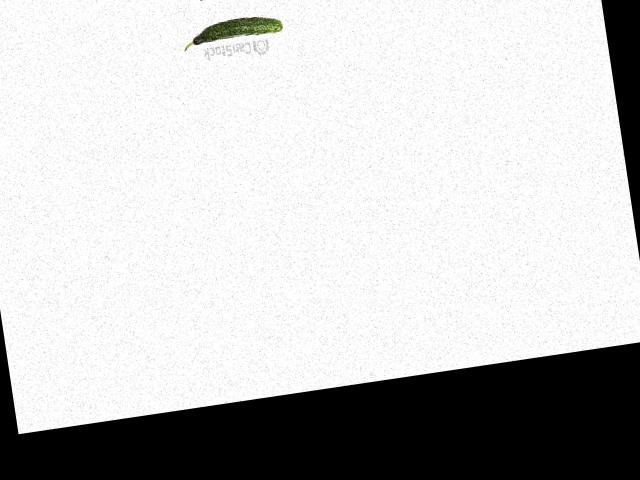cucumber: (180, 12, 283, 50)
